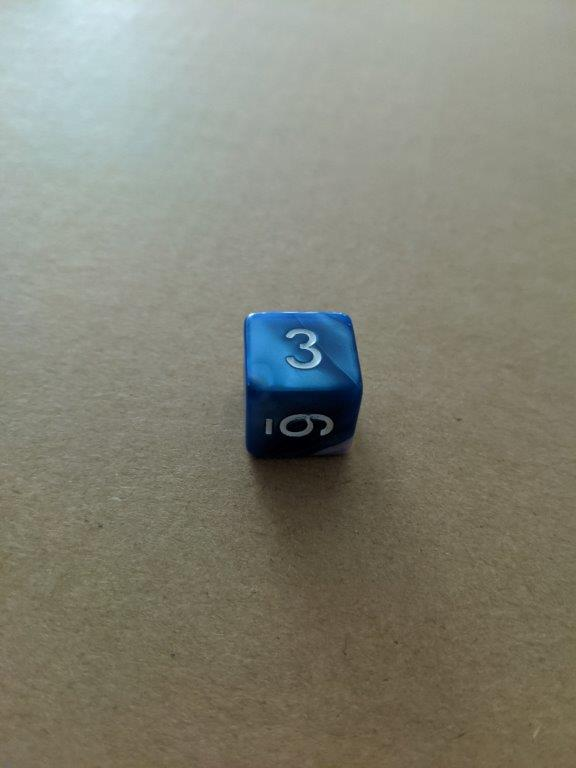d6-3: (242, 311, 364, 458)
